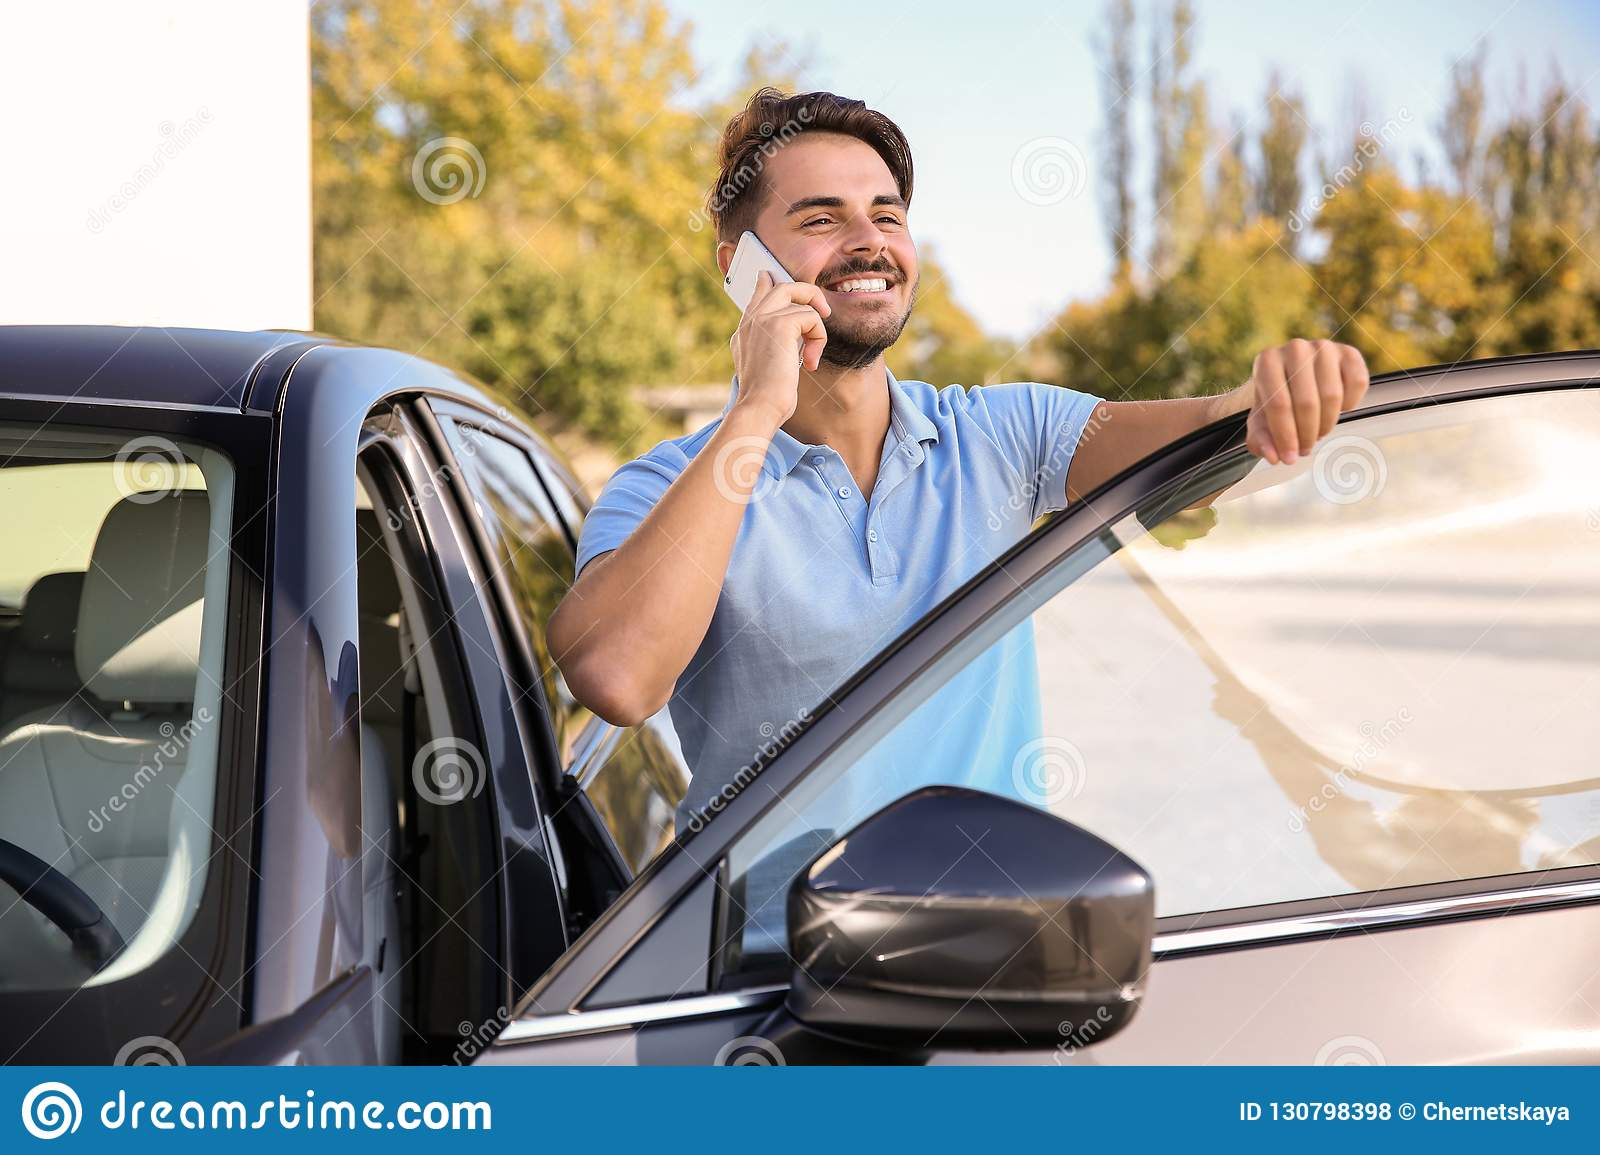phone: (729, 226, 820, 359)
talk: (723, 194, 914, 414)
